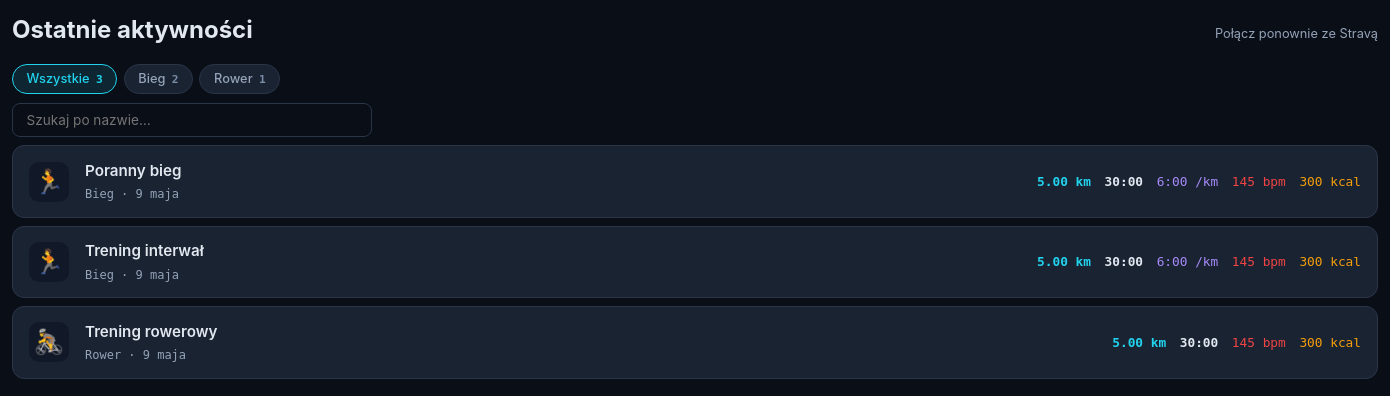
it: A8 filters › sport + search łącznie (AND)
Expected: the text "Poranny bieg" is shown, [85,161,182,180]
Click the button "Bieg 2".
click(158, 79)  # box [124,64,193,94]
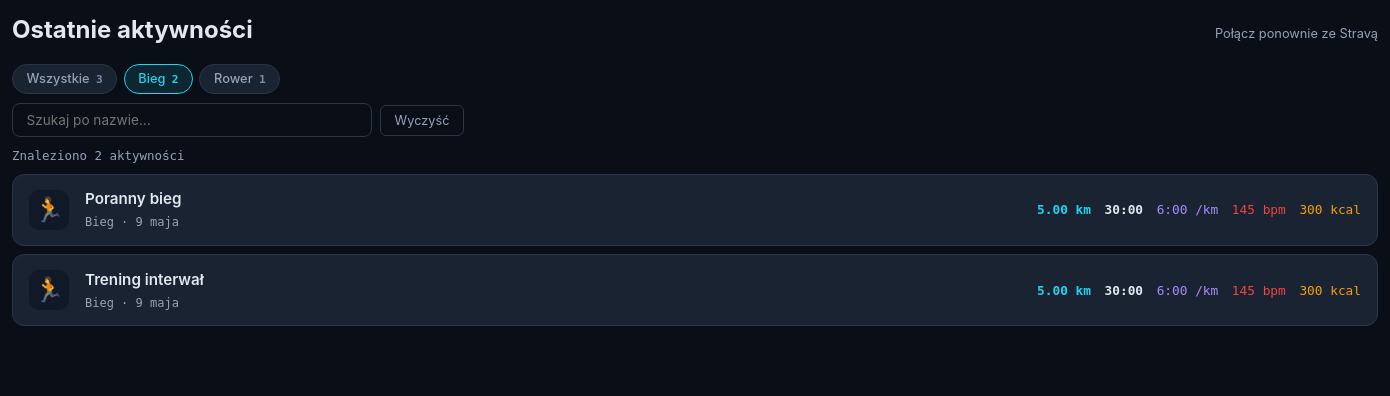
Type "trening" into the search field with placeholder "Szukaj po nazwie…".
click(192, 120); type("trening")  # box [12,103,372,137]
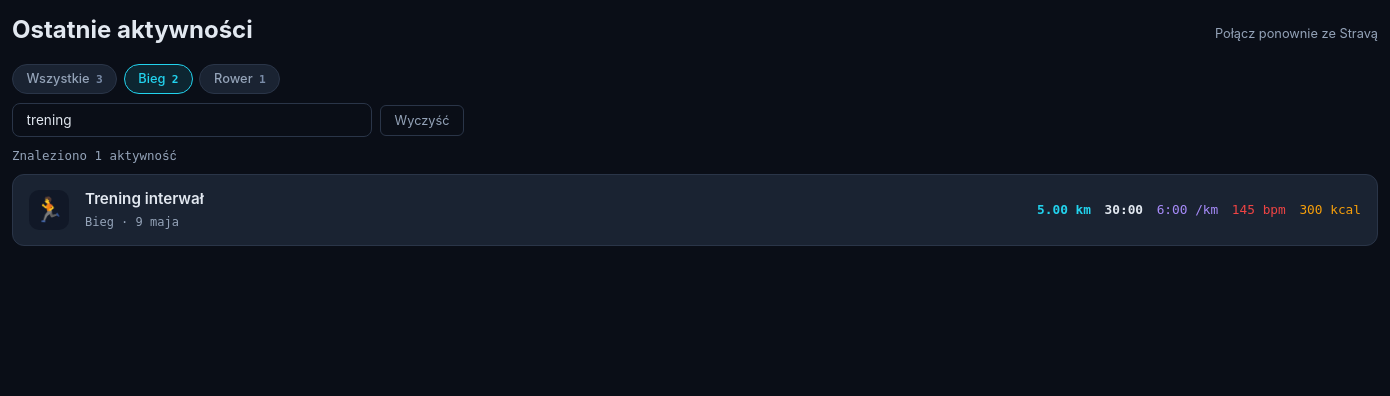
Expected: the text "Trening interwał" is shown, [85,189,204,208]
Now the text "Poranny bieg" is gone
